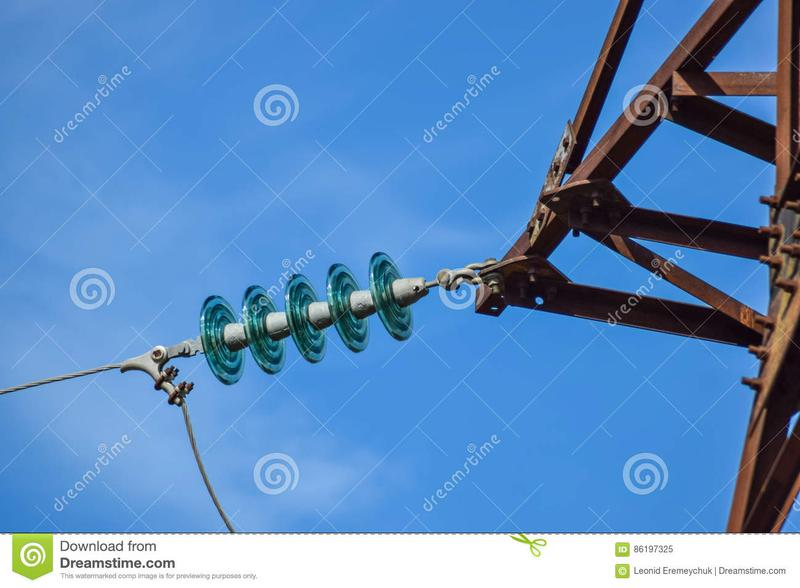isolator: (198, 249, 415, 385)
